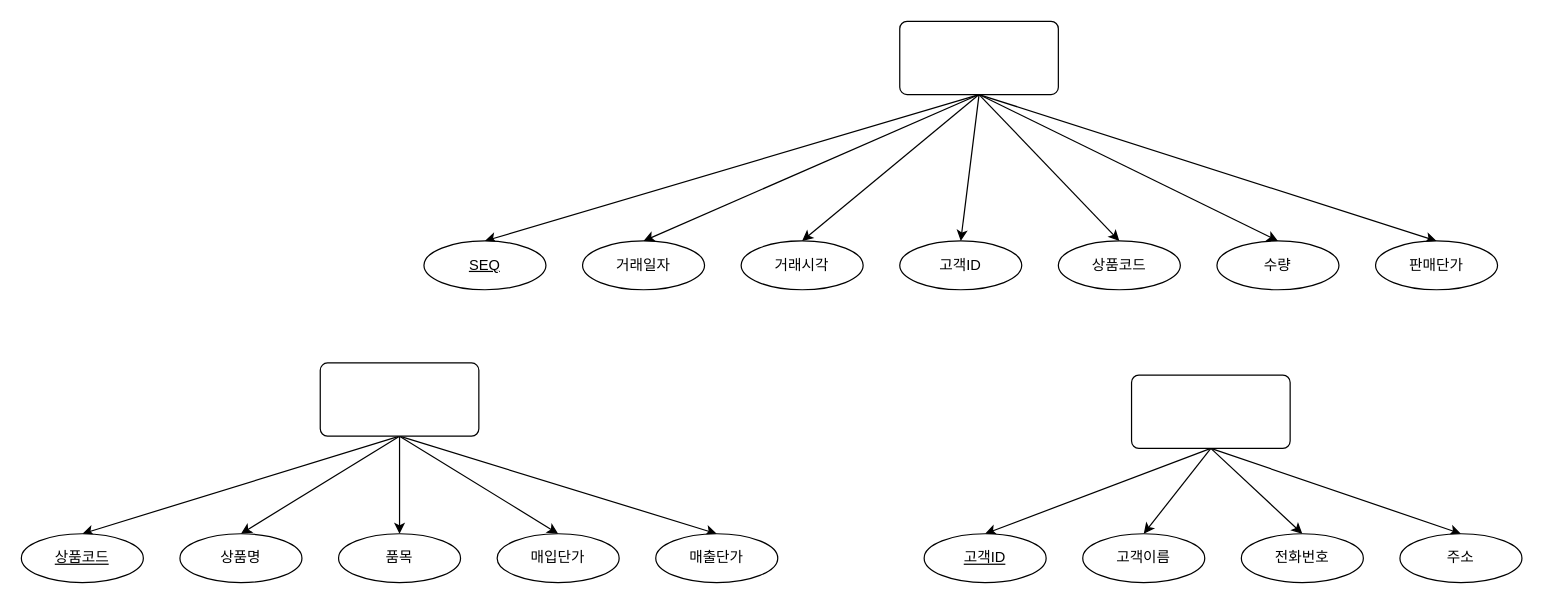
This 1543x604 diagram has some shape labels left out. The centre of each missing label's shape, as x and y in pixels:
"고객정보" goes at [1210,411].
"상품정보" goes at [399,399].
"판매내역" goes at [978,57].
